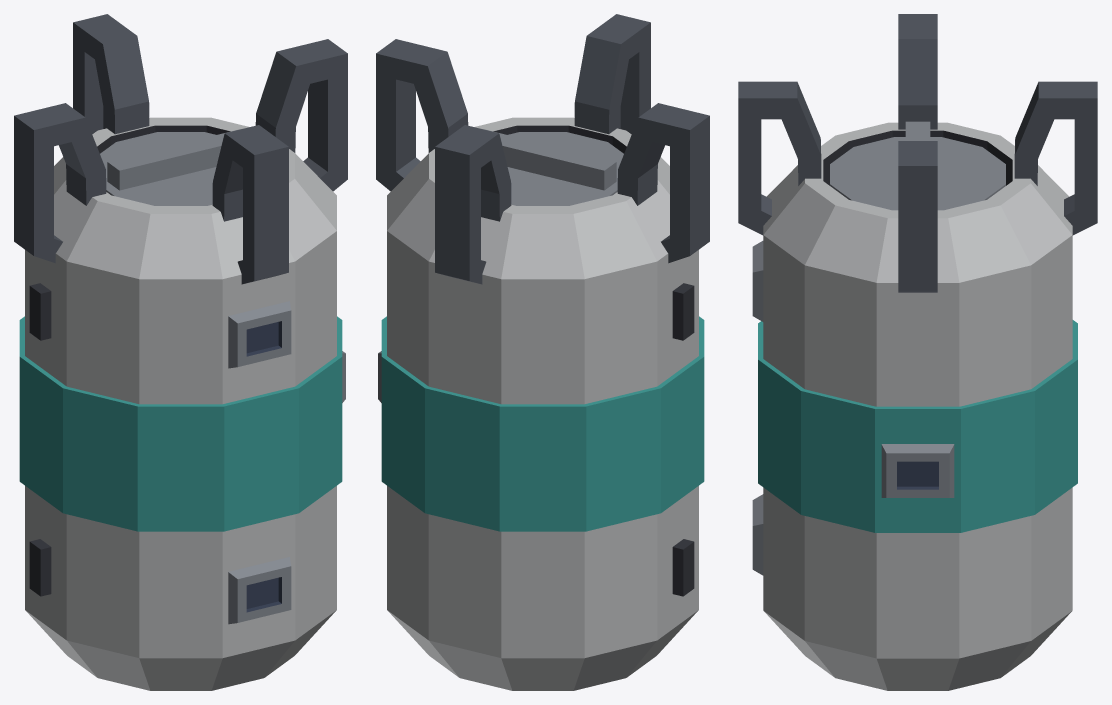
File: supply-canister-4b70f5.glb
The picture shows the model from 3 angles, left to right: view 1: azimuth 30°, elevation 25°; view 2: azimuth 150°, elevation 25°; view 3: azimuth 270°, elevation 25°; orthographic projection.
Visible parts, largest first — view 1: canister-shell, lid-mesh; view 2: canister-shell, lid-mesh; view 3: canister-shell, lid-mesh.
Boxes of the visible parts, x1,y1,x2,y2 form: canister-shell: (14, 14, 347, 690); lid-mesh: (100, 128, 242, 205); canister-shell: (376, 14, 709, 690); lid-mesh: (481, 128, 623, 205); canister-shell: (738, 14, 1097, 690); lid-mesh: (830, 121, 1005, 210).
Bounding box in the file's own units: 0.53 × 0.9 × 0.53.
